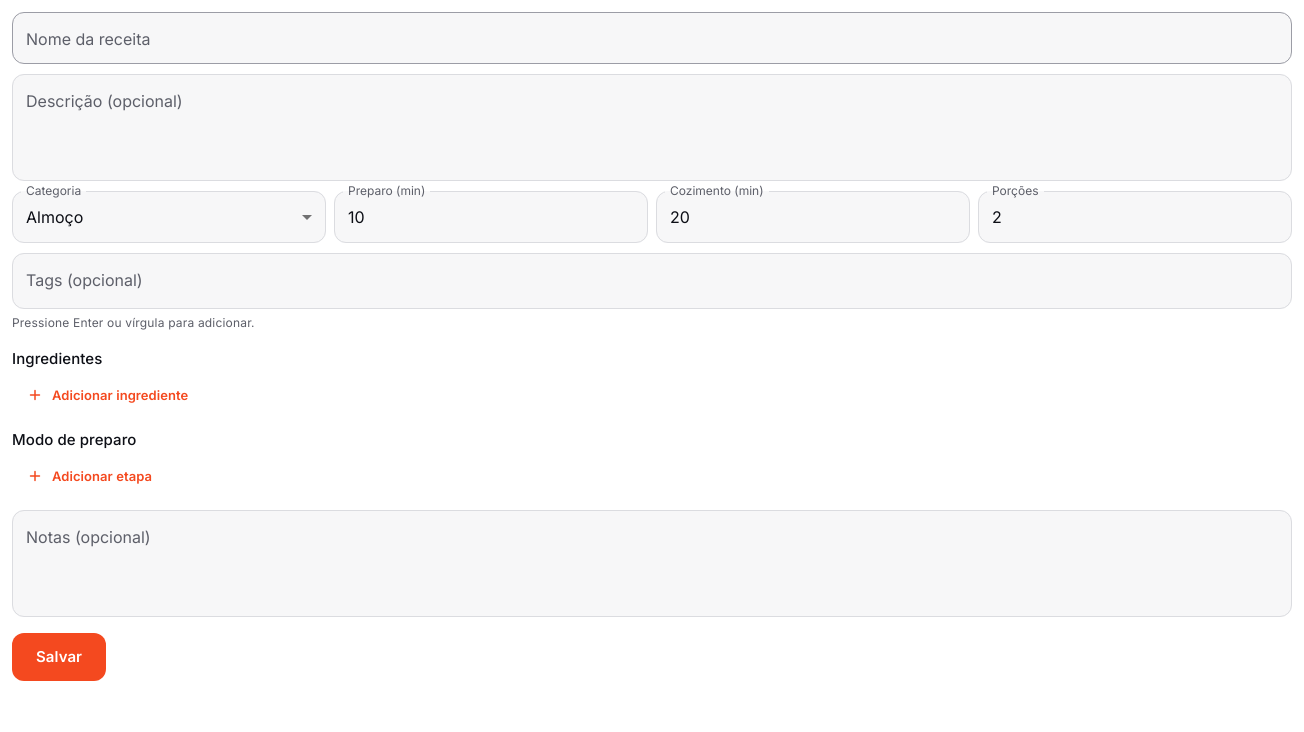
Test: RecipeForm tags › keeps a tag typed without Enter when leaving the field, lower-cased
Type "Marmita Fit" into the dropdown labelled "Tags (opcional)" at (652, 281), box [21, 262, 1283, 300]
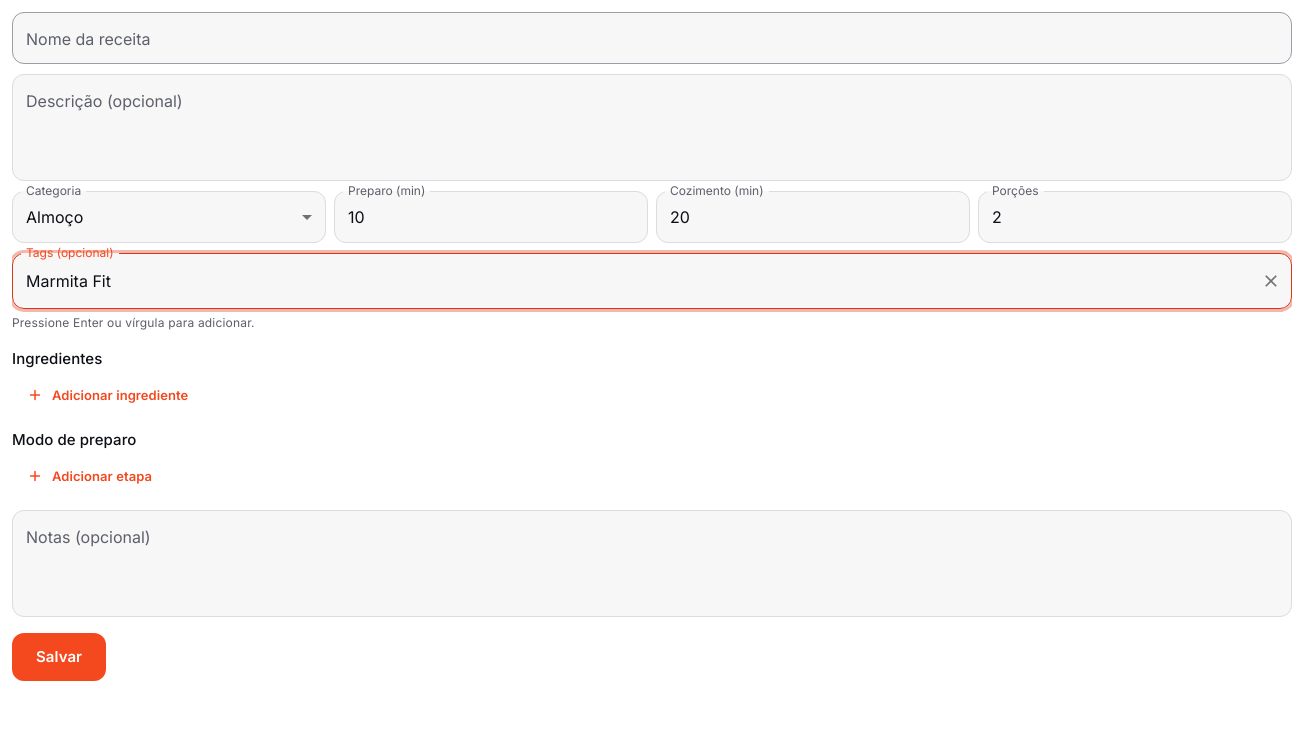
Click the element that starts with "Nome da receita" at (652, 689), box [12, 12, 1292, 731]
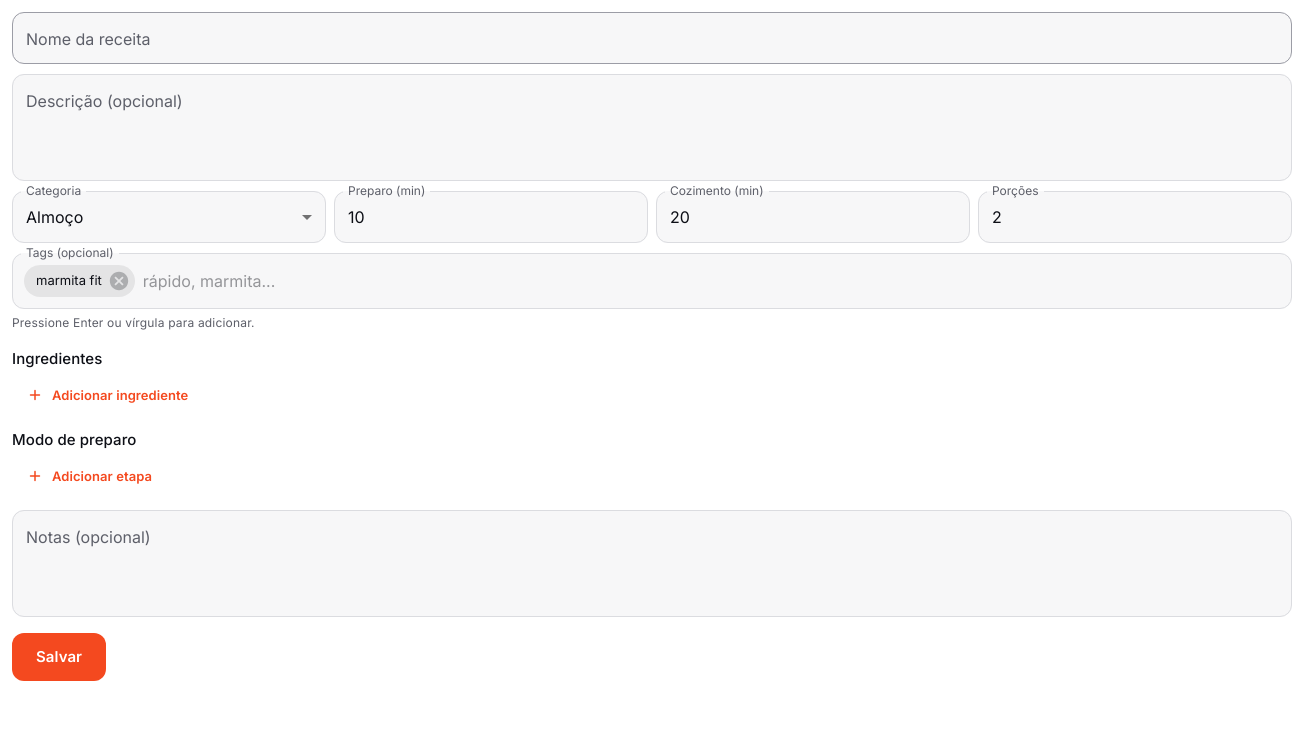
expect the button "marmita fit" is shown: met, box [24, 265, 135, 297]
